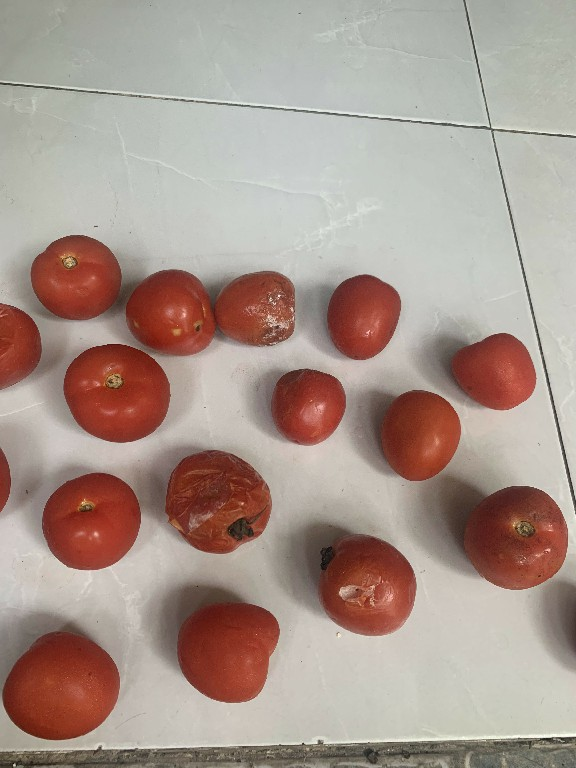NG: (154, 441, 273, 560), (308, 525, 422, 643), (460, 482, 570, 598), (122, 260, 218, 362), (210, 265, 297, 352)
OK: (0, 617, 118, 748), (168, 590, 285, 705), (34, 467, 145, 577), (61, 336, 167, 447), (320, 266, 410, 367), (444, 326, 540, 419), (25, 229, 121, 321), (375, 381, 460, 484), (266, 358, 349, 453)
